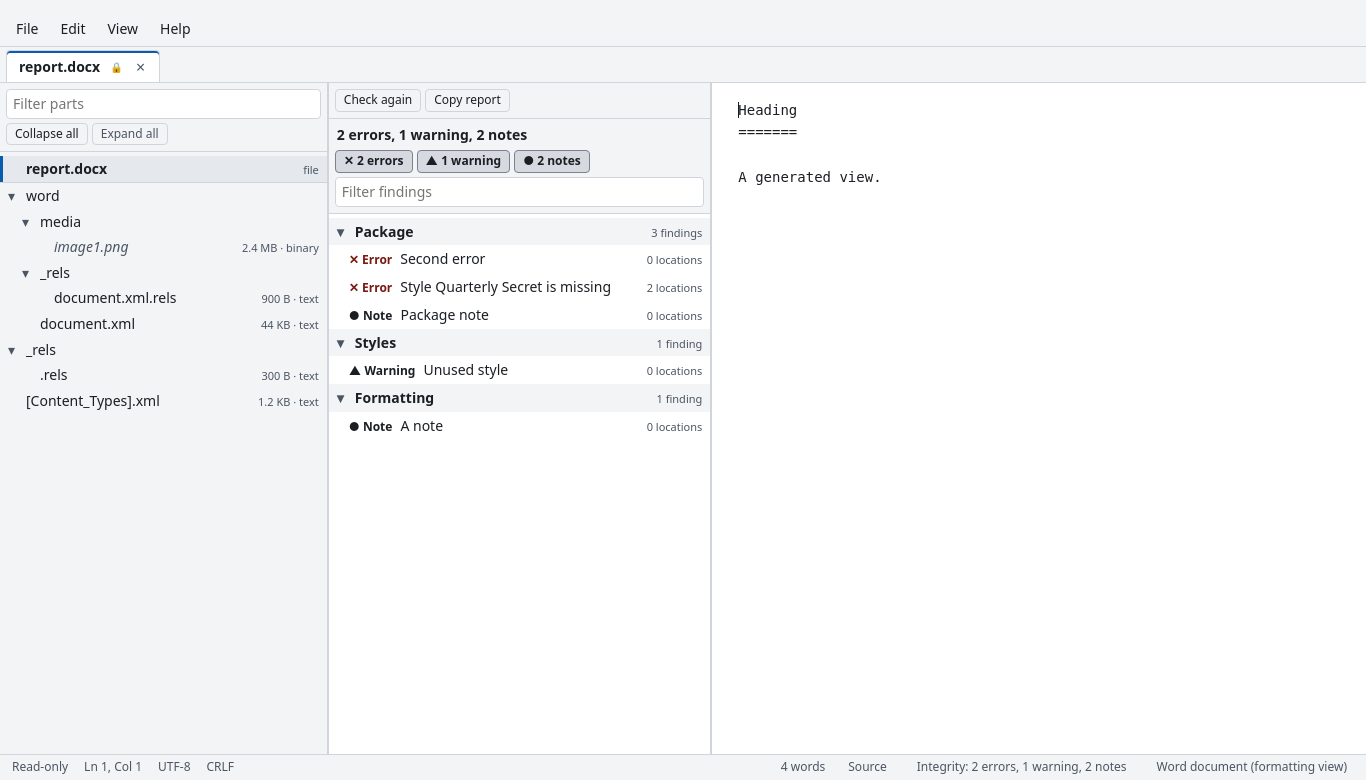
the Integrity pane › collapses a group
The image size is (1366, 780).
Check: the element "findings" is shown, box [329,214,710,754]
Click the list item with aria-label "styles, ": (520, 343) [329,329,710,356]
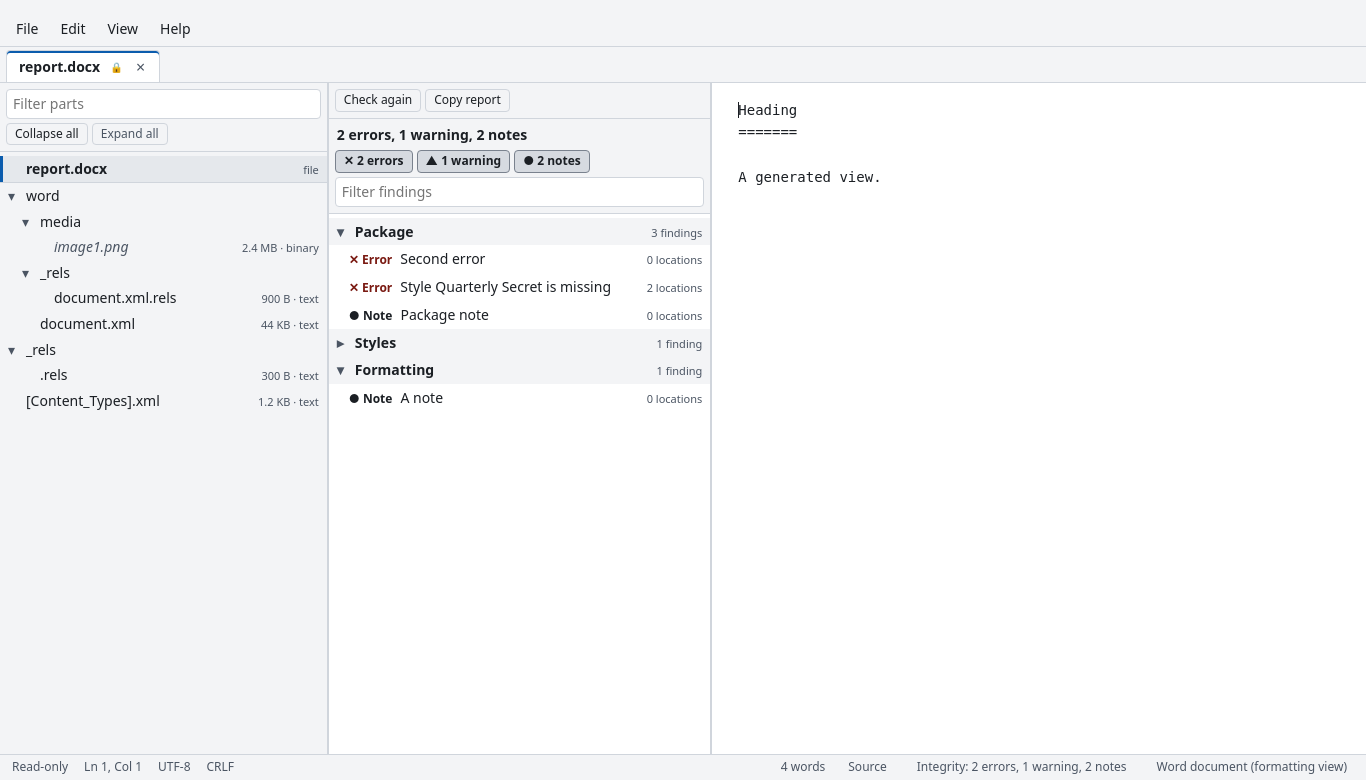
Check: the text "Unused style" is gone
Click the list item with aria-label "styles, ": (520, 343) [329,329,710,356]
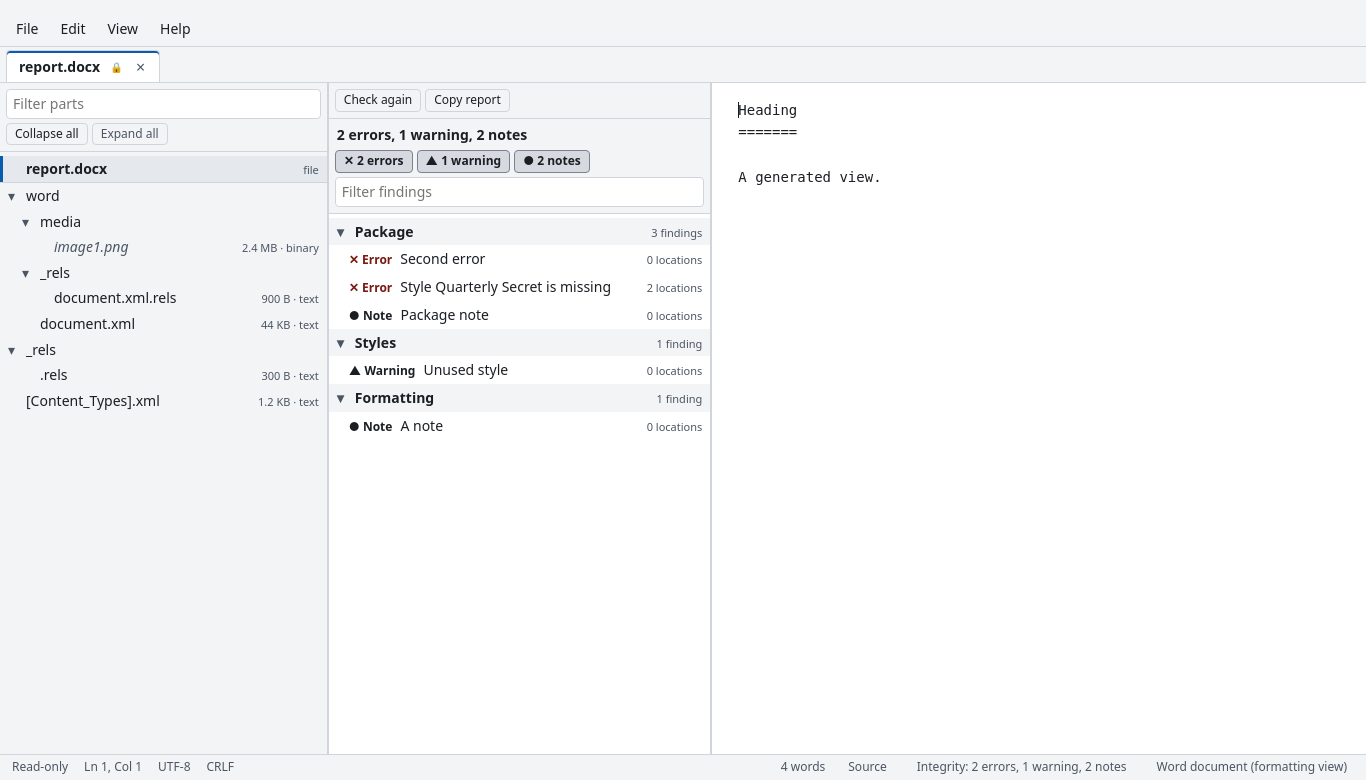
Check: the list item "▲ Warning Unused style 0 locations" is shown, box [329,356,710,384]
